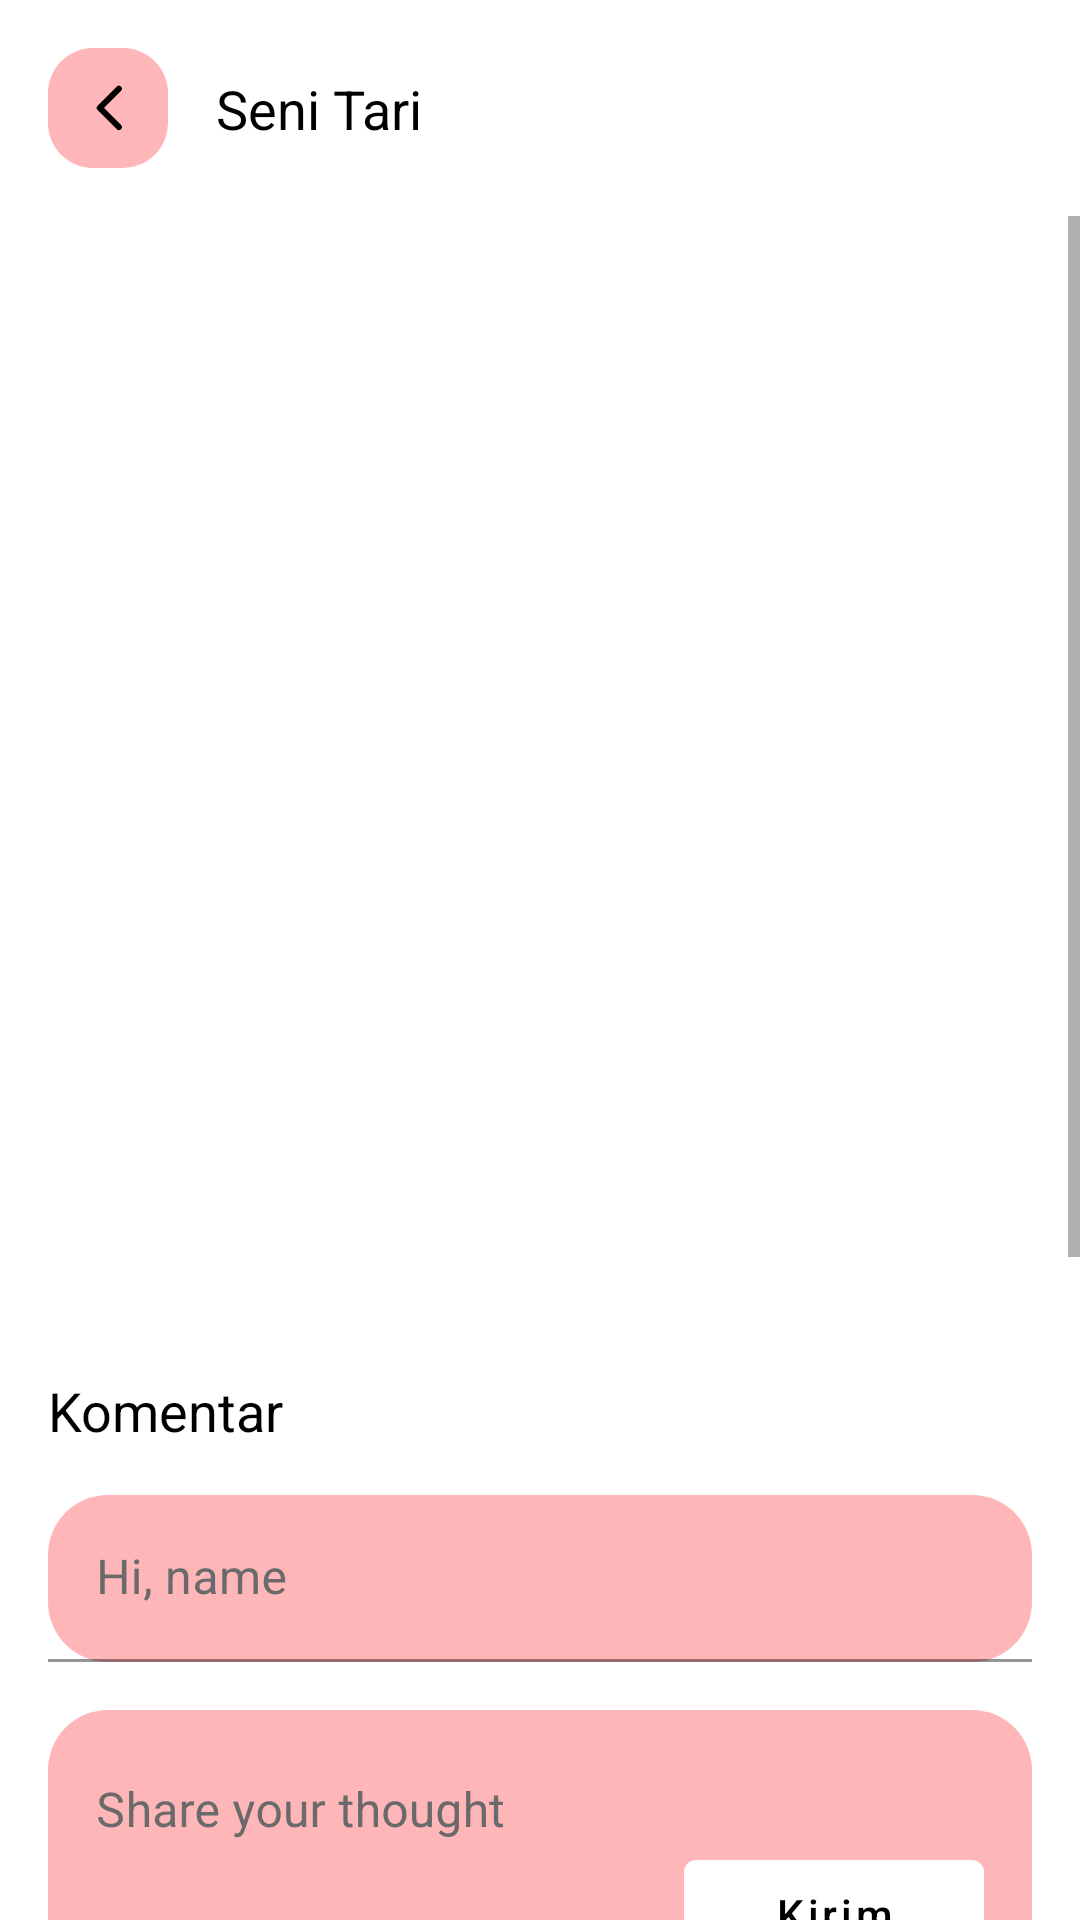

Screen size 1080w x 1920h. Icon name, then its center in pixels as [x,y]:
back: [109,108]
